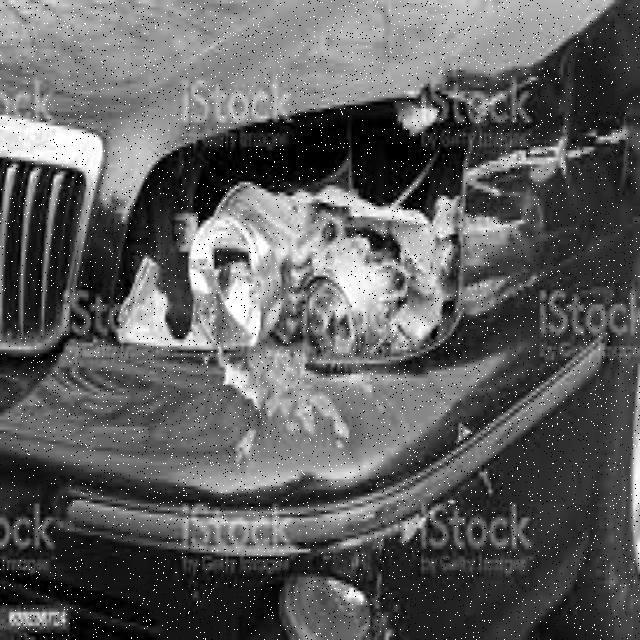Headlight-damage: (131, 106, 487, 361)
fender-dent: (440, 1, 638, 420)
front-bumper-dent: (1, 332, 638, 636)
